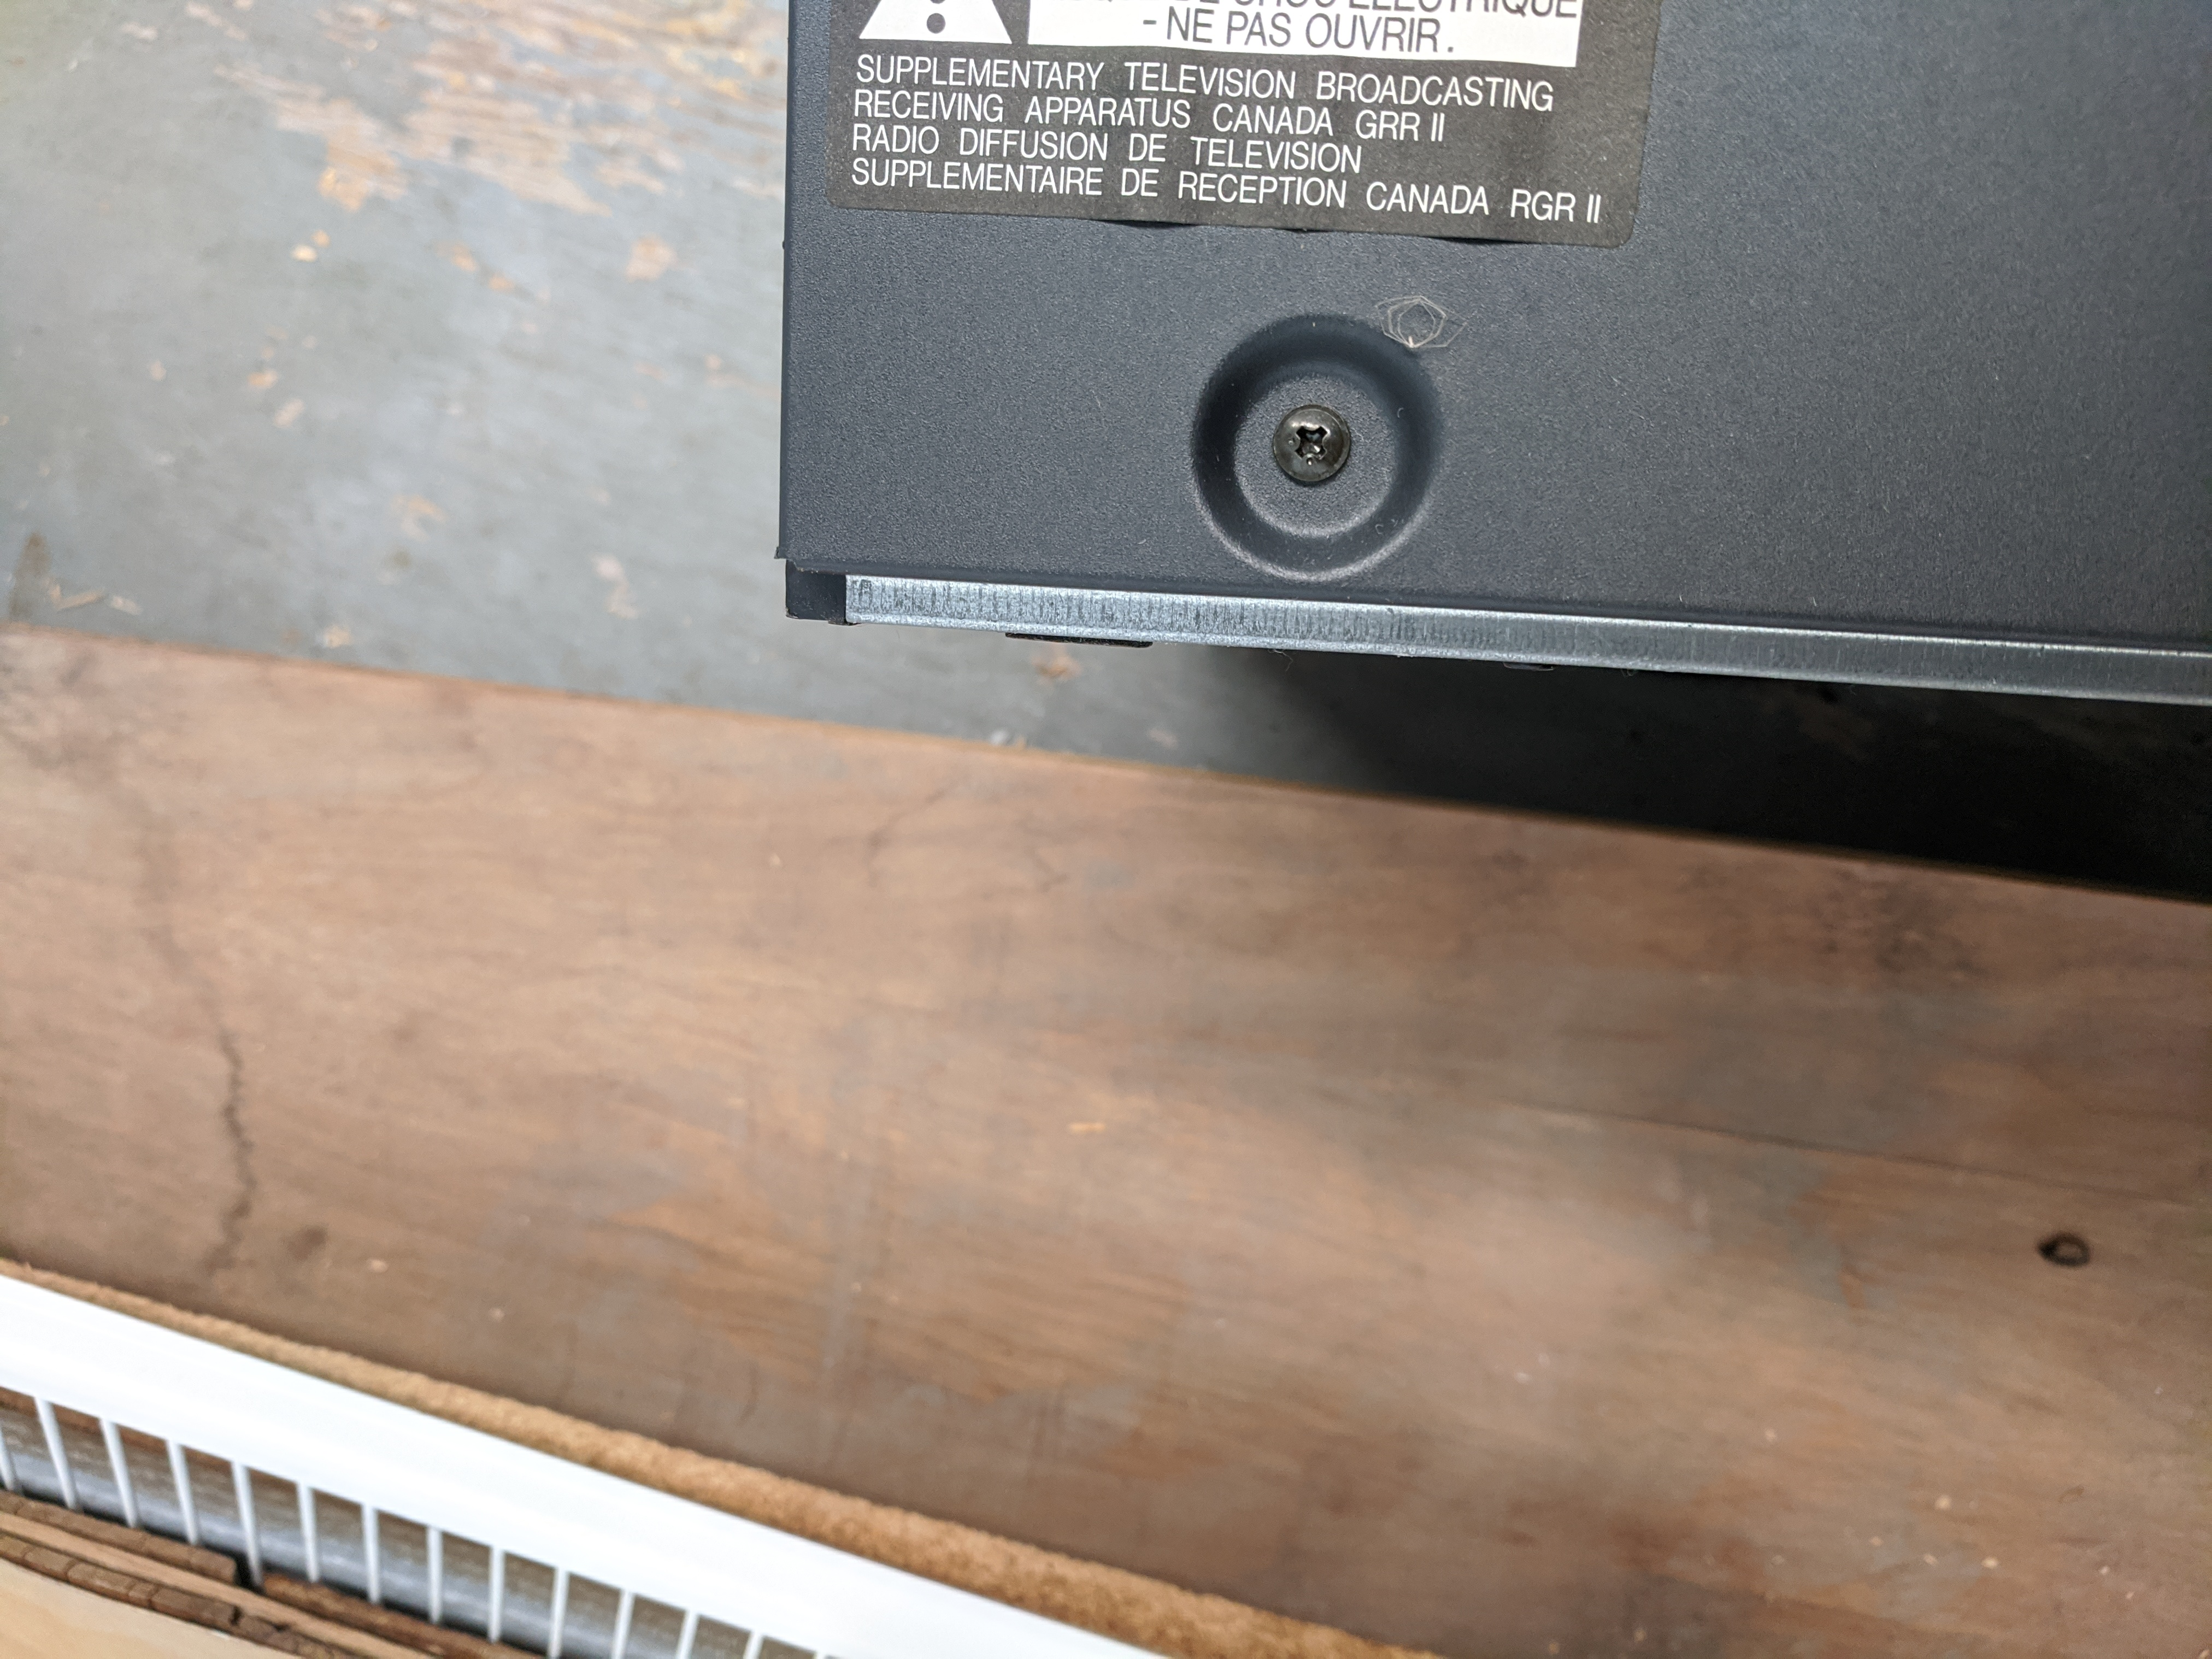cross_recessed_screw: (1268, 392, 1350, 495)
